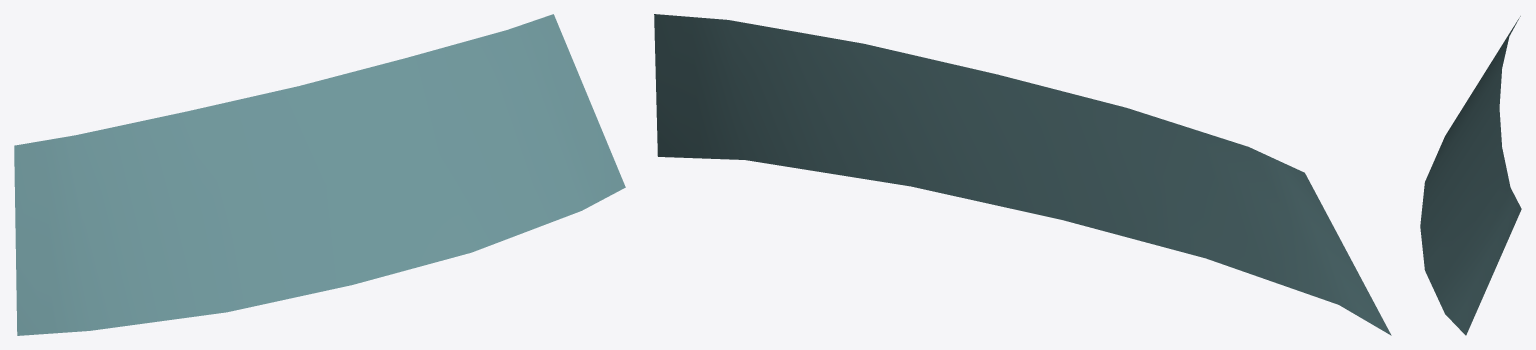
Rendered from Offroad_1_Window_Tessellate_F.fbx.
3 views of the same model, side by side, from view 1: azimuth 30°, elevation 25°; view 2: azimuth 150°, elevation 25°; view 3: azimuth 270°, elevation 25° (orthographic). The views are drawn at different scales.
Parts seen in each view (by area): view 1: Offroad_1_Window_Tessellate_F; view 2: Offroad_1_Window_Tessellate_F; view 3: Offroad_1_Window_Tessellate_F.
Boxes of the visible parts, x1,y1,x2,y2 form: Offroad_1_Window_Tessellate_F: (14, 14, 625, 335); Offroad_1_Window_Tessellate_F: (654, 14, 1391, 335); Offroad_1_Window_Tessellate_F: (1420, 16, 1521, 335).
Size of the model in its own units: 175 by 43.99 by 34.12.
